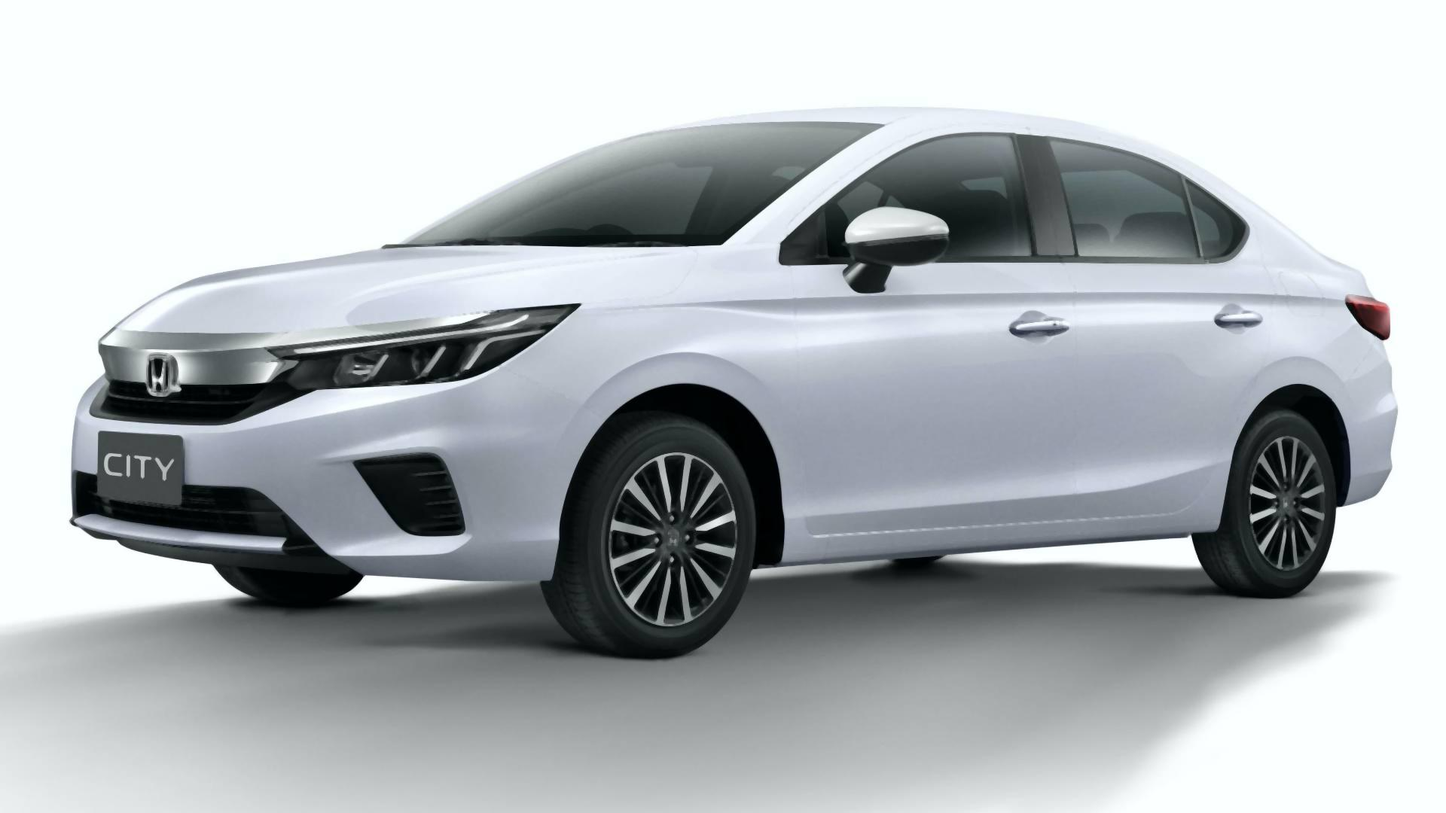Car hood: (81, 239, 726, 356)
Fender - -F-L-: (508, 242, 814, 571)
Fender - -R-L-: (1194, 187, 1367, 481)
Front bumper: (69, 378, 577, 585)
Headlight - -L-: (273, 296, 579, 394)
Passenger-s door - -F-L-: (766, 99, 1096, 577)
Passenger-s door - -R-L-: (1036, 94, 1284, 581)
Rear bumper: (1329, 365, 1402, 513)
Rear light - -L-: (1344, 290, 1391, 349)
Side bumper - -L-: (762, 462, 1239, 585)
Side mirror - -L-: (840, 201, 951, 299)
